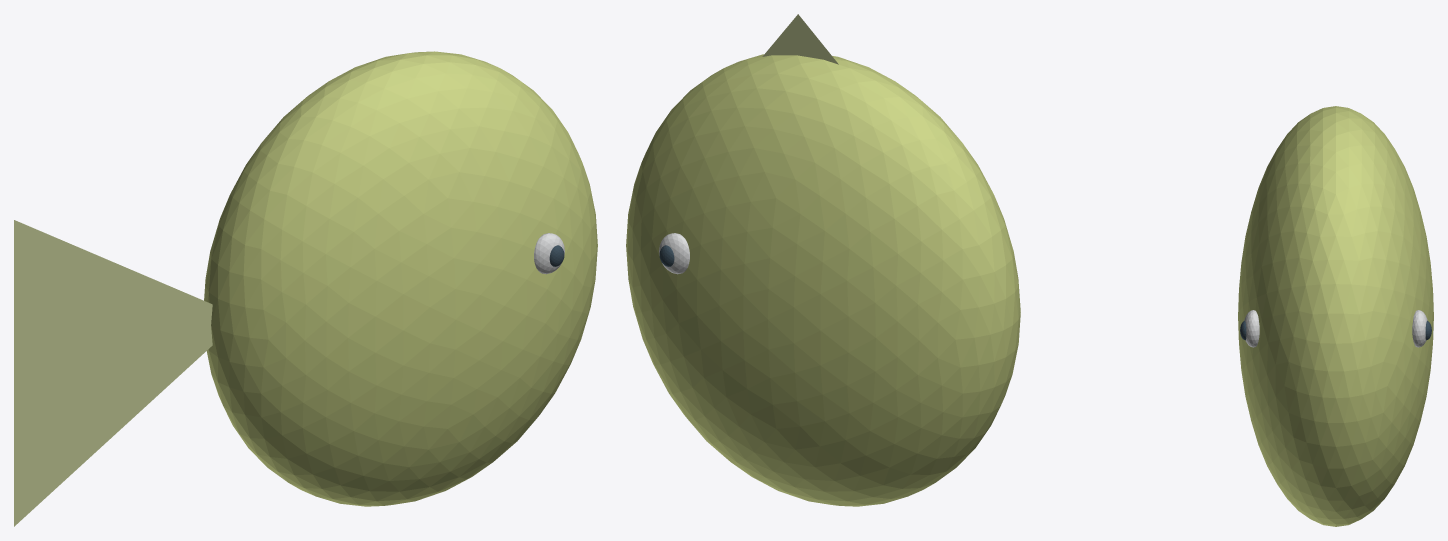
3 renders of one model, left to right at view 1: azimuth 30°, elevation 25°; view 2: azimuth 150°, elevation 25°; view 3: azimuth 270°, elevation 25°, orthographic. The views are drawn at different scales.
Visible parts, largest first — view 1: puffer_00, puffer_01, puffer_05; view 2: puffer_00, puffer_02, puffer_03; view 3: puffer_00, puffer_03, puffer_05.
Part boxes in pixels (x1=…): puffer_00: x1=204, y1=51, x2=597, y2=506; puffer_01: x1=14, y1=220, x2=212, y2=526; puffer_05: x1=534, y1=233, x2=564, y2=274; puffer_00: x1=626, y1=54, x2=1020, y2=506; puffer_02: x1=762, y1=14, x2=838, y2=64; puffer_03: x1=659, y1=233, x2=689, y2=274; puffer_00: x1=1238, y1=106, x2=1433, y2=526; puffer_03: x1=1412, y1=310, x2=1427, y2=347; puffer_05: x1=1244, y1=310, x2=1259, y2=347.
Bounding box in the file's own units: 2.28 × 1.81 × 0.76.
